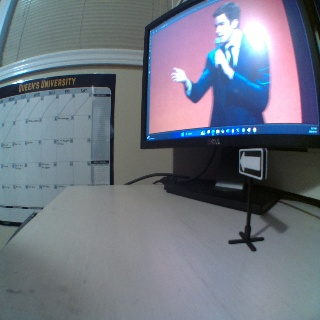sign_oneway_left: (239, 147, 265, 180)
